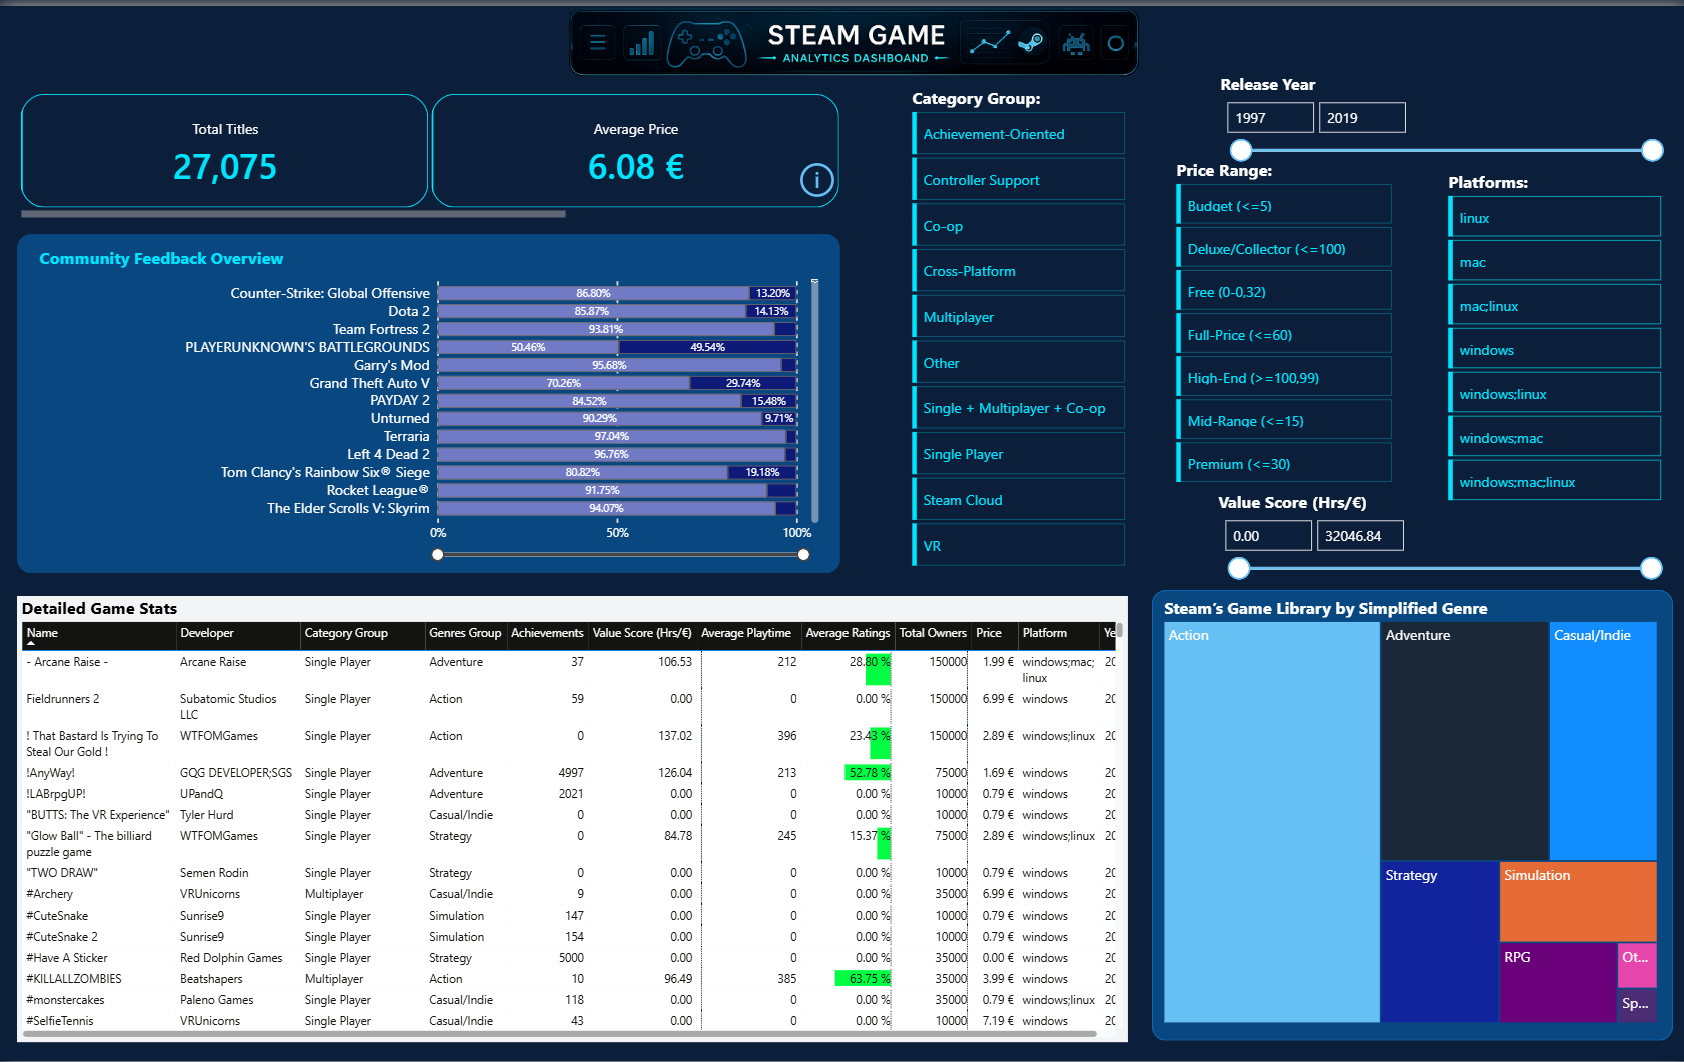

The page's visual inventory and layout, read from the dashboard file:
{"tool":"powerbi","page":{"name":"Game Explorer","canvas":[1920,1200],"ordinal":2},"visuals":[{"type":"shape","box":[1310,665,592.5,512.5],"z":0},{"type":"shape","box":[20,260,936,386],"z":1000},{"type":"tableEx","title":"Detailed Game Stats","fields":{"Values":["steam.name","steam.developer","steam.categories_group","steam.genres_group","steam.achievements","steam.value_score","steam.average_playtime","steam.average_ratings","steam.median_owners","steam.price","steam.platforms","steam_release_date.release_date.Variation.Date Hierarchy.Year"]},"box":[20,670,1262.5,507.5],"z":2000},{"type":"treemap","title":"Steam’s Game Library by Simplified Genre","fields":{"Group":["steam.genres_group"],"Values":["CountNonNull(steam.appid)"]},"box":[1320,670,570,490],"z":3000},{"type":"advancedSlicerVisual","title":"Price Range:","fields":{"Values":["steam.price_range_label"]},"box":[1332.5,172.5,255,377.5],"z":5000},{"type":"advancedSlicerVisual","title":"Platforms:","fields":{"Values":["steam.platforms"]},"box":[1642.5,187.5,252.5,385],"z":6000},{"type":"slicer","title":"Value Score (Hrs/€)","fields":{"Values":["steam.value_score"]},"box":[1381.9,550.1,518.6,113.9],"z":7000},{"type":"slicer","title":"Release Year","fields":{"Values":["steam_release_date.release_date.Variation.Date Hierarchy.Year"]},"box":[1382.5,75,517.5,117.5],"z":8000},{"type":"hundredPercentStackedBarChart","title":"Community Feedback Overview","fields":{"Category":["steam.name"],"Y":["Sum(steam.positive_ratings)","Sum(steam.negative_ratings)"]},"box":[40,274,896,362],"z":9000},{"type":"actionButton","box":[905.9,172.7,50,50],"z":10000},{"type":"advancedSlicerVisual","title":"Category Group:","fields":{"Values":["steam.categories_group"]},"box":[1032,90,252,556],"z":11000},{"type":"cardVisual","fields":{"Data":["CountNonNull(steam.appid)","Avg(steam.price)","Avg(steam.average_playtime)"]},"box":[20,96,940,152],"z":12000},{"type":"image","box":[22,0,1898,80],"z":12001}]}

Visuals, with their boxes in screenshot pixels (x1, y1, x2, y2), scaled from the page's 1920x1200 canvas onto the 1684x1062 screenshot:
shape: 1149:589:1669:1042
shape: 18:230:838:572
"Detailed Game Stats" tableEx: 18:593:1125:1042
"Steam’s Game Library by Simplified Genre" treemap: 1158:593:1658:1027
"Price Range:" advancedSlicerVisual: 1169:153:1392:487
"Platforms:" advancedSlicerVisual: 1441:166:1662:507
"Value Score (Hrs/€)" slicer: 1212:487:1667:588
"Release Year" slicer: 1213:66:1666:170
"Community Feedback Overview" hundredPercentStackedBarChart: 35:242:821:563
actionButton: 795:153:838:197
"Category Group:" advancedSlicerVisual: 905:80:1126:572
cardVisual - CountNonNull(steam.appid) x Avg(steam.price): 18:85:842:219
image: 19:0:1683:71
